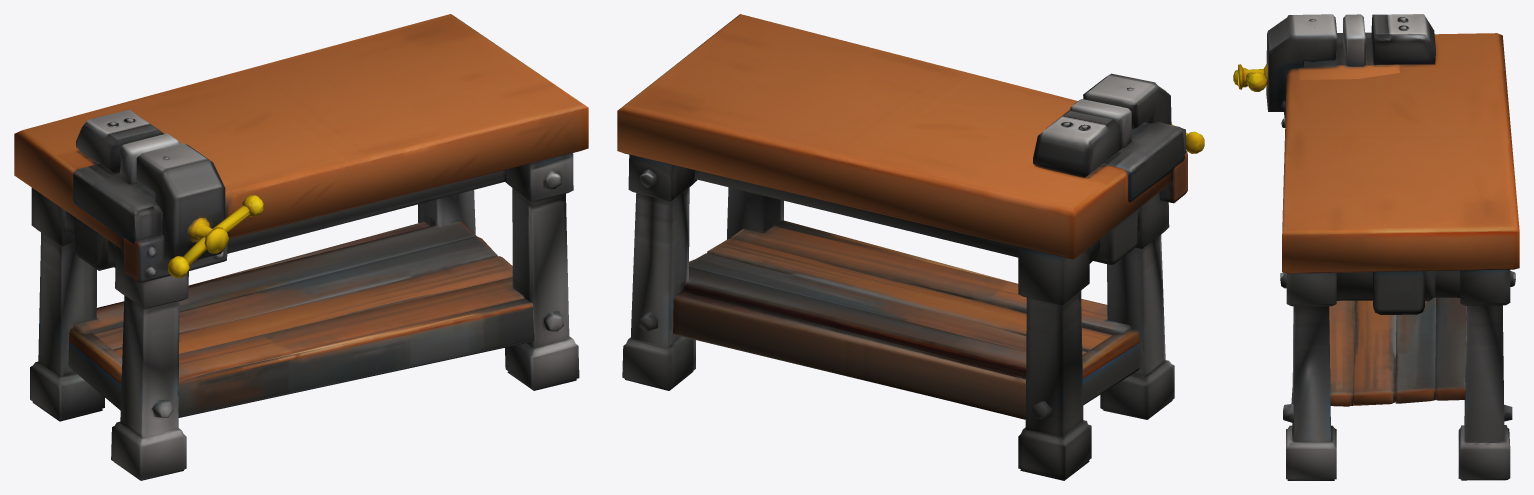
Rendered from wooden-workbench.glb.
3 renders of one model, left to right at view 1: azimuth 30°, elevation 25°; view 2: azimuth 150°, elevation 25°; view 3: azimuth 270°, elevation 25°, orthographic. The views are drawn at different scales.
Parts seen in each view (by area): view 1: tripo_node_0c5d2049-b709-40f9-bcf1-a11c1a601030; view 2: tripo_node_0c5d2049-b709-40f9-bcf1-a11c1a601030; view 3: tripo_node_0c5d2049-b709-40f9-bcf1-a11c1a601030.
Part boxes in pixels (bbox=[...]): tripo_node_0c5d2049-b709-40f9-bcf1-a11c1a601030: bbox=[14, 14, 588, 480]; tripo_node_0c5d2049-b709-40f9-bcf1-a11c1a601030: bbox=[617, 14, 1204, 480]; tripo_node_0c5d2049-b709-40f9-bcf1-a11c1a601030: bbox=[1233, 14, 1519, 480].
Bounding box in the file's own units: 0.998 × 0.6504 × 0.5957.
Materials: 1 (1 with a texture image).
